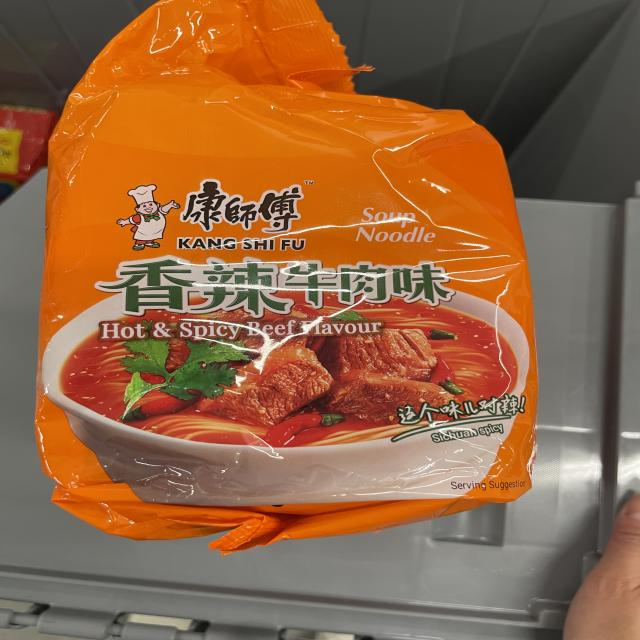object_name: (72, 59, 508, 508)
